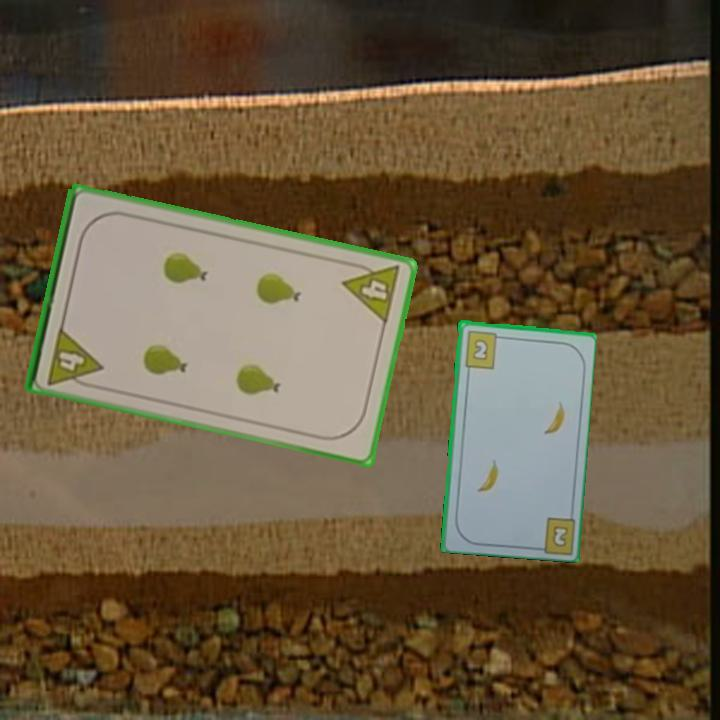2b: (461, 327, 505, 371), (549, 522, 571, 550)
4p: (339, 257, 404, 327), (44, 323, 105, 392)
